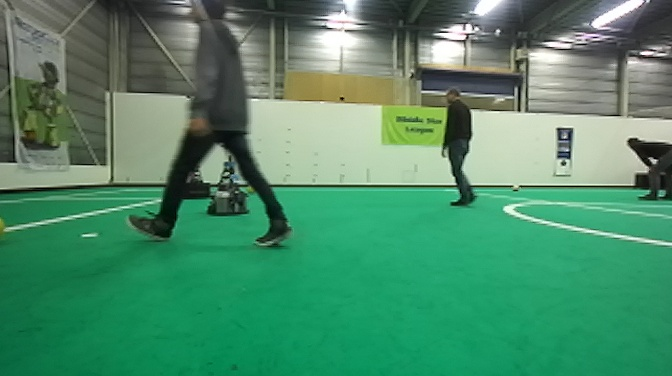ball: (244, 181, 258, 194), (509, 181, 521, 194)
human: (125, 1, 293, 250), (439, 87, 478, 208), (624, 134, 672, 202)
robot: (203, 143, 250, 217), (177, 153, 215, 201)
